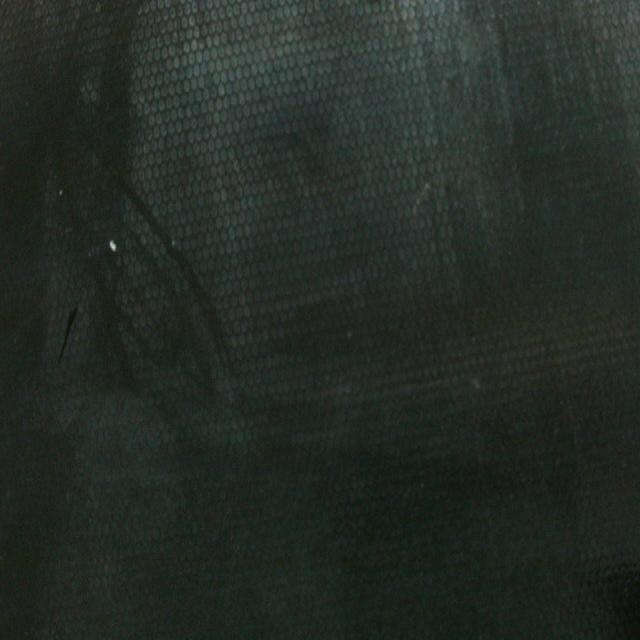scratch: (51, 297, 84, 368)
